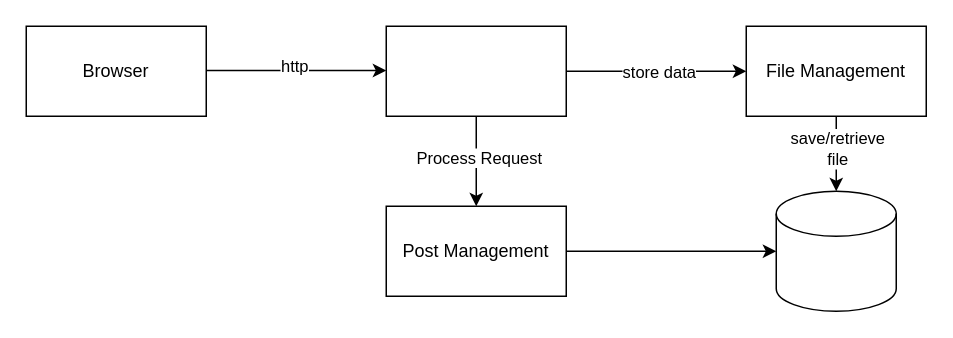
Image size: 953x338. Some labels were removed from this diagram. Each missing label, with the box of its shape:
Database/ Post storage: (775, 190, 896, 311)
Server (Flask): (385, 25, 566, 116)
